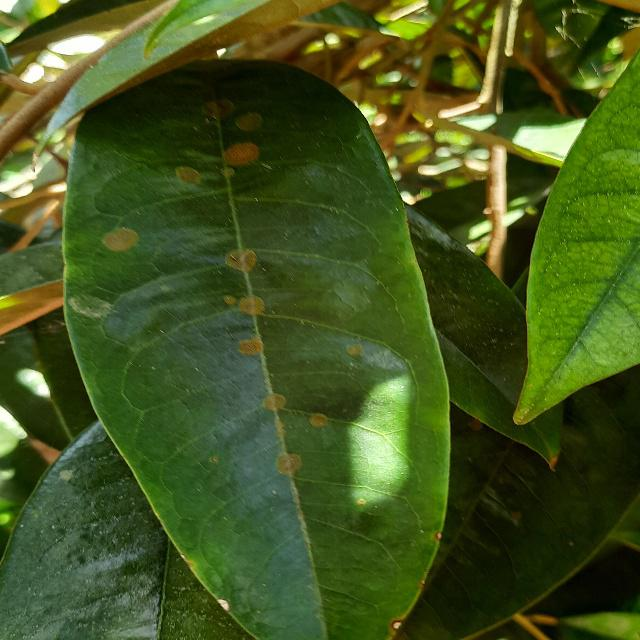Algal Leaf Spot: (55, 49, 462, 639)
